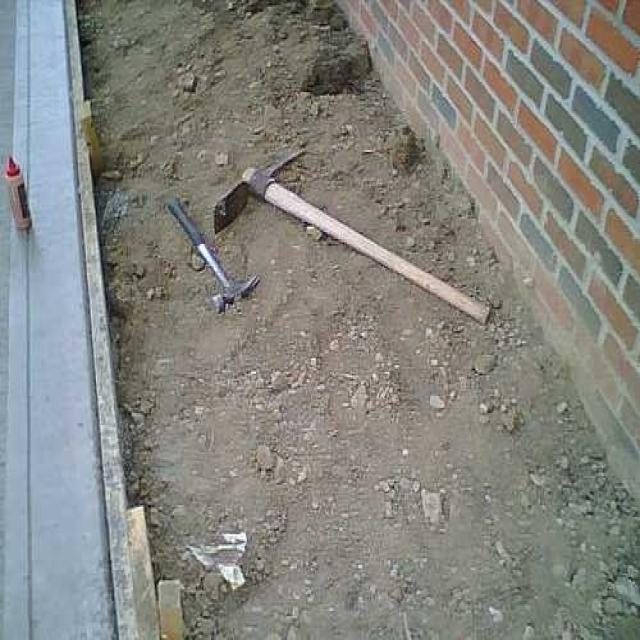hammer: (166, 197, 261, 314)
